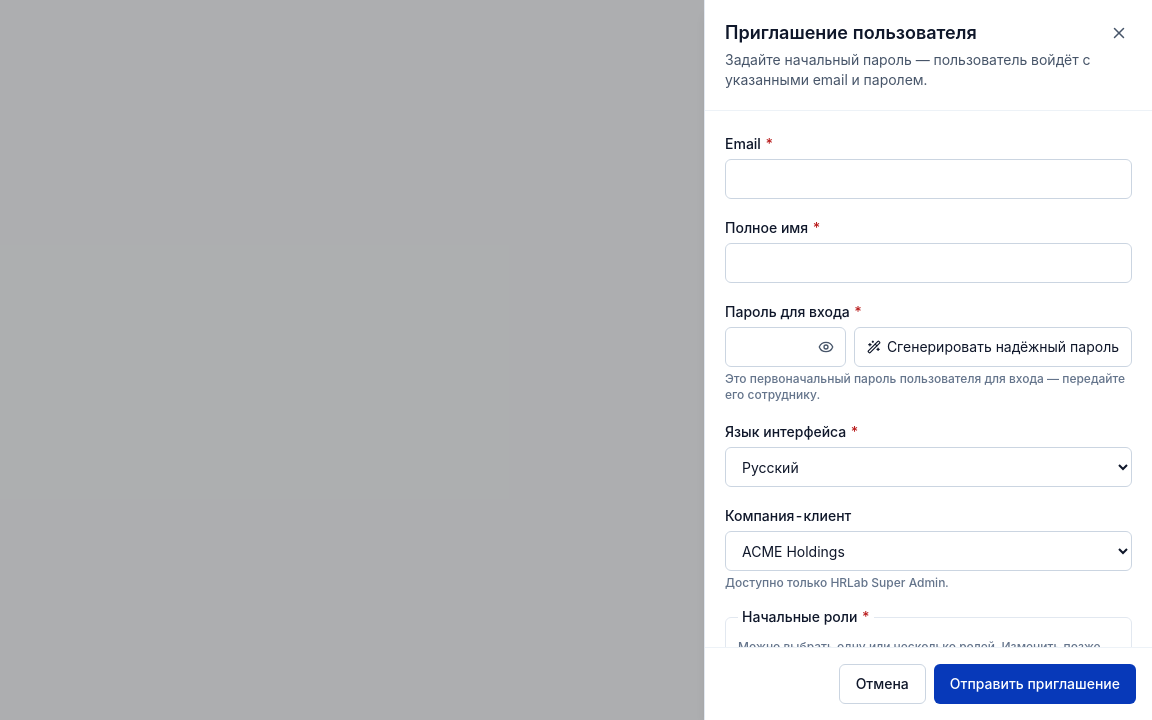
<InviteUserDialog /> › refuses submission and shows an inline error when the password is weak
Type "weak@example.com" into the field with test id "invite-email" at point(928, 179), box [725, 159, 1132, 199]
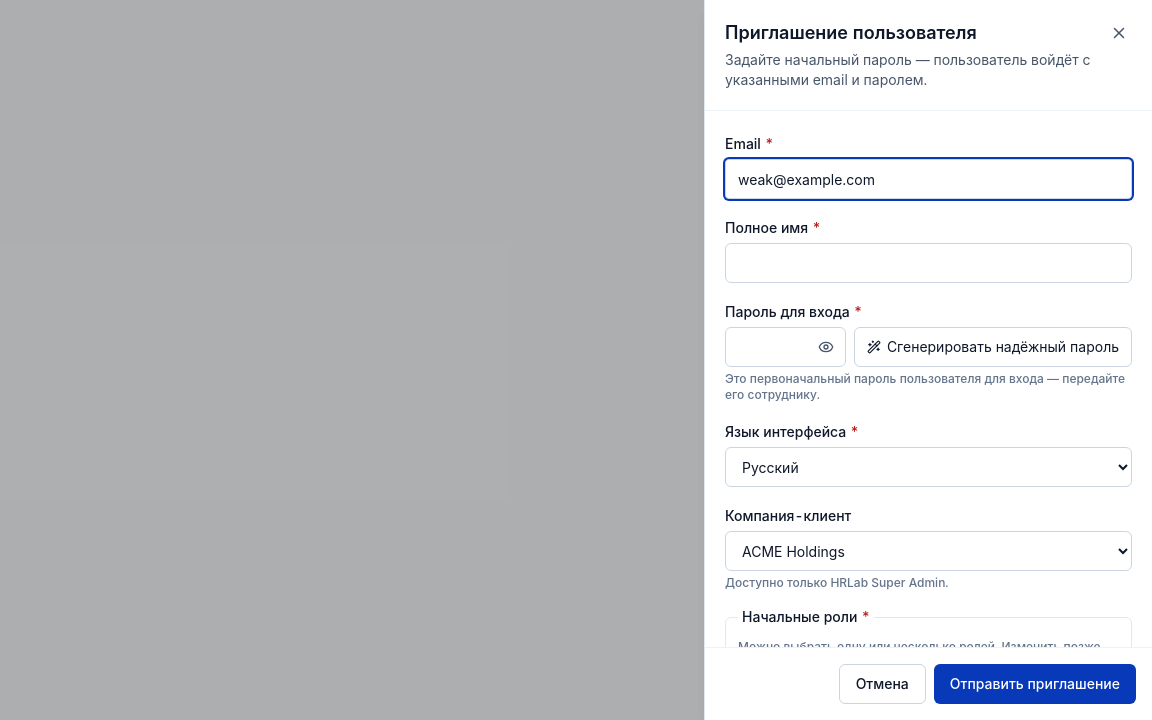
Type "Weak Pass" into the field with test id "invite-fullname" at point(928, 263), box [725, 243, 1132, 283]
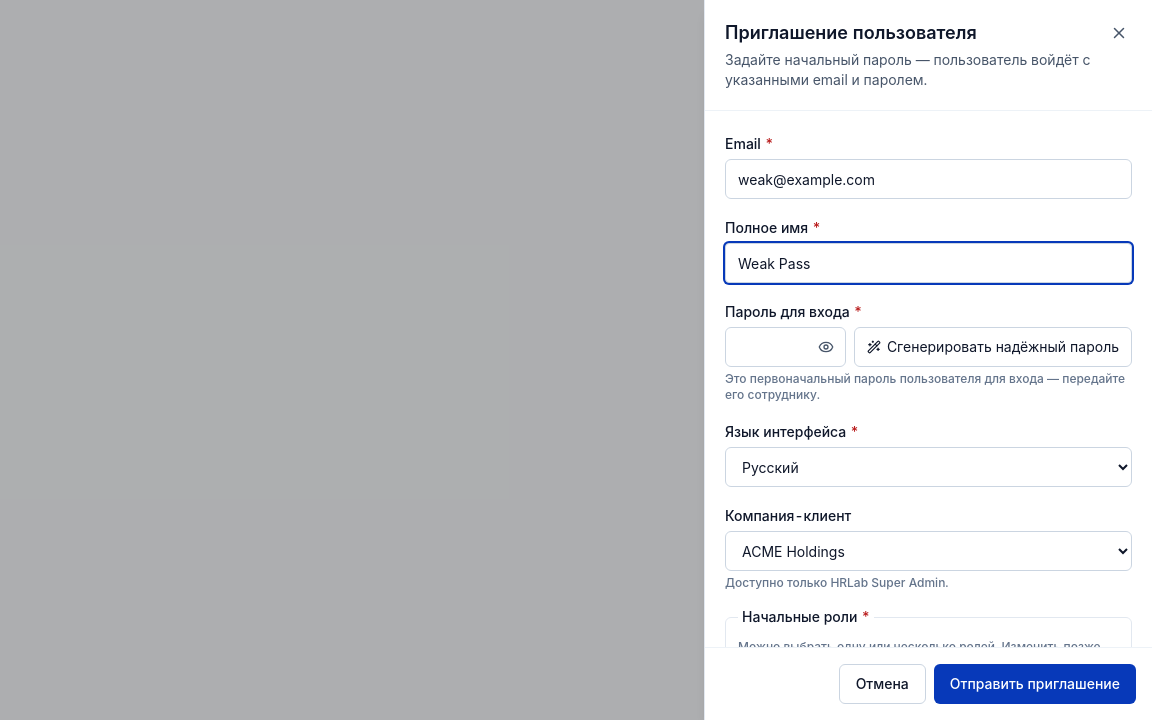
Missing uppercase / symbol → fails client-side complexity rule.
Type "abc12345" into the password field with test id "invite-password" at point(785, 347), box [725, 327, 846, 367]
(page scrolled)
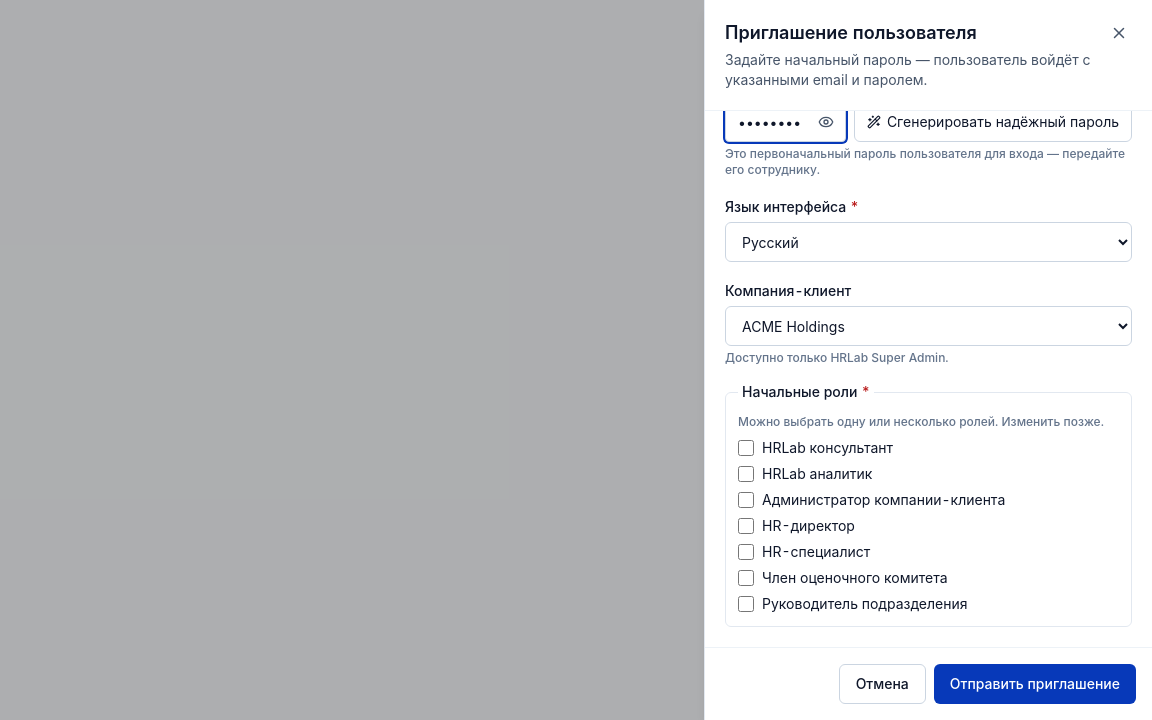
Click the checkbox with test id "invite-role-CLIENT_HR_DIRECTOR" at point(746, 526), box [738, 518, 754, 534]
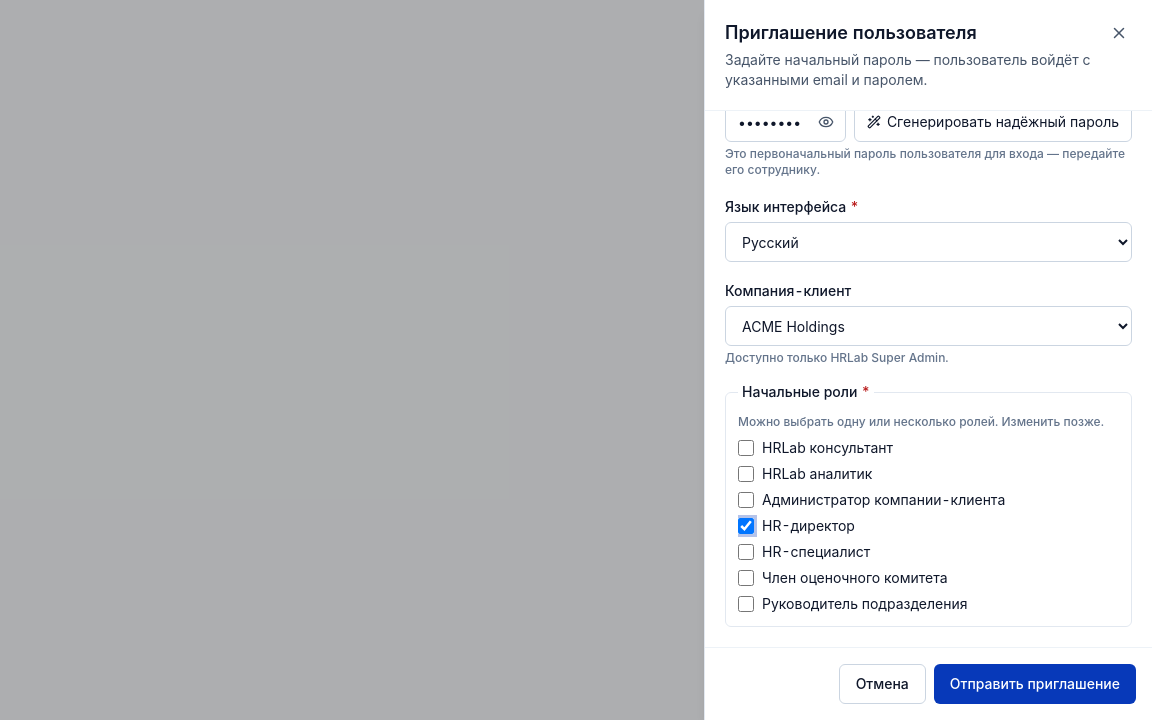
Click the button "Отправить приглашение" at point(1035, 684), box [934, 664, 1136, 704]
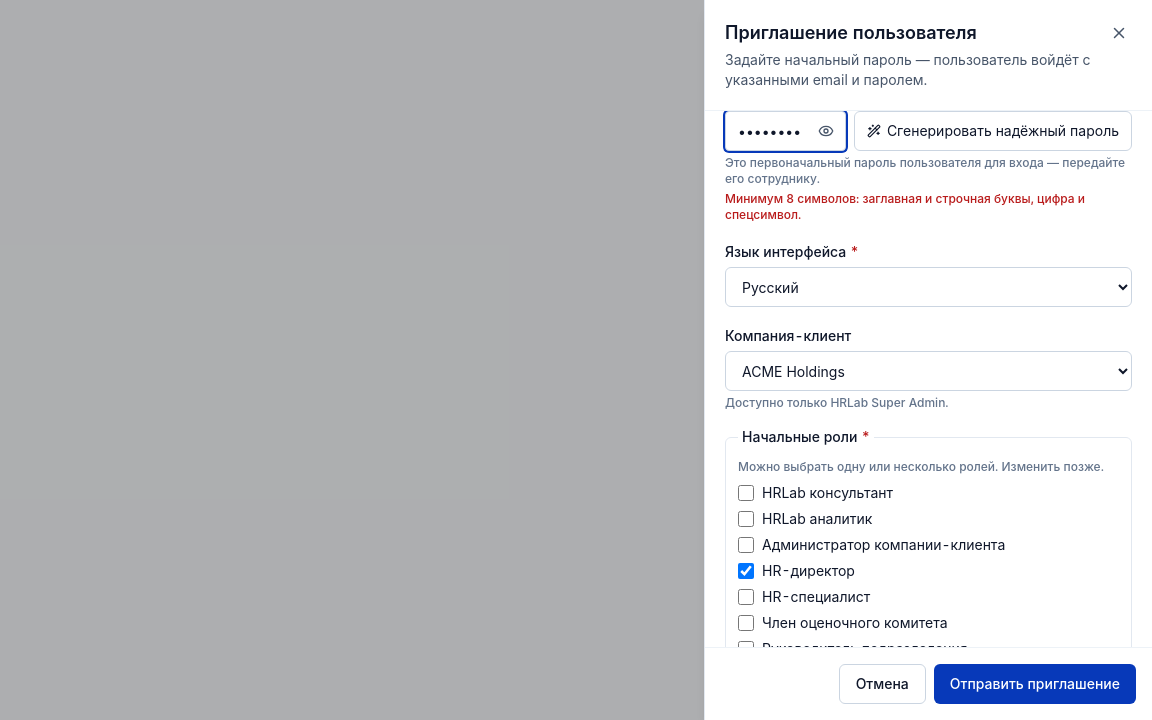
Expected: the message "Минимум 8 символов: заглавная и строчная буквы, цифра и спецсимвол." is shown, [725, 191, 1132, 223]
